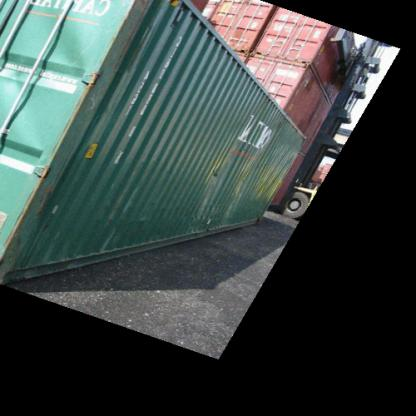Damage: (52, 0, 199, 106), (202, 130, 284, 210), (96, 155, 145, 253)
